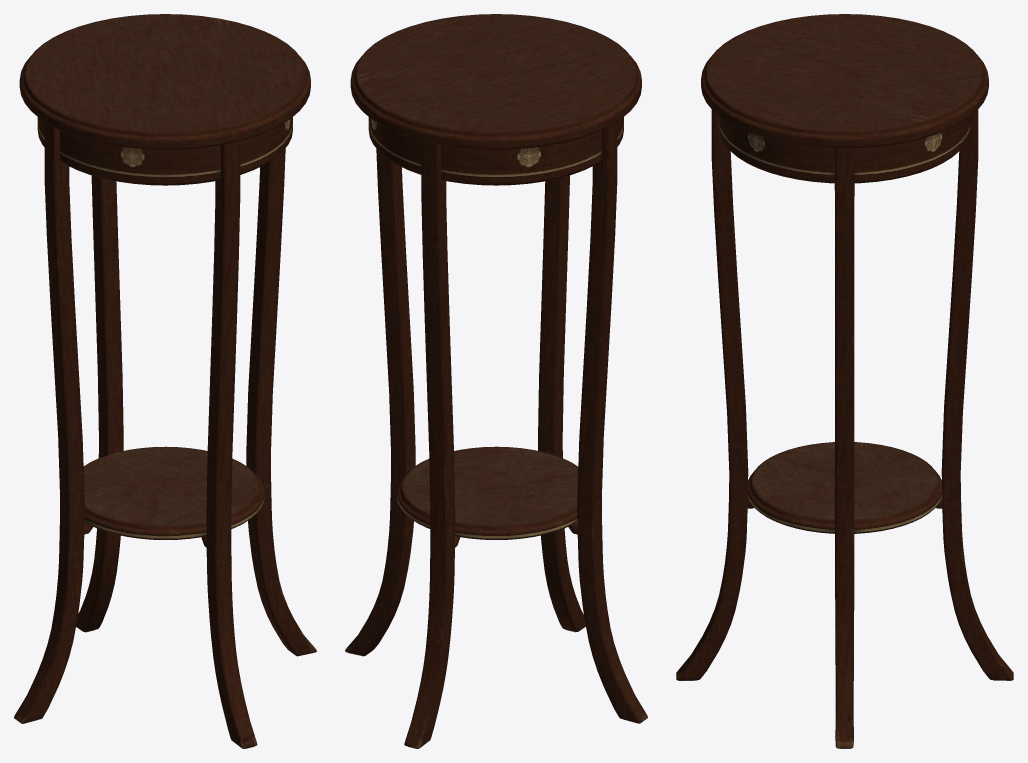
File: side_table_tall_01.glb
The picture shows the model from 3 angles, left to right: view 1: azimuth 30°, elevation 25°; view 2: azimuth 150°, elevation 25°; view 3: azimuth 270°, elevation 25°; orthographic projection.
Visible parts, largest first — view 1: side_table_tall_01; view 2: side_table_tall_01; view 3: side_table_tall_01.
Part boxes in pixels (x1=…): side_table_tall_01: x1=14, y1=14, x2=316, y2=748; side_table_tall_01: x1=345, y1=14, x2=647, y2=748; side_table_tall_01: x1=676, y1=14, x2=1013, y2=748.
Bounding box in the file's own units: 0.384 × 0.7612 × 0.384.
1 material, 1 textured.
